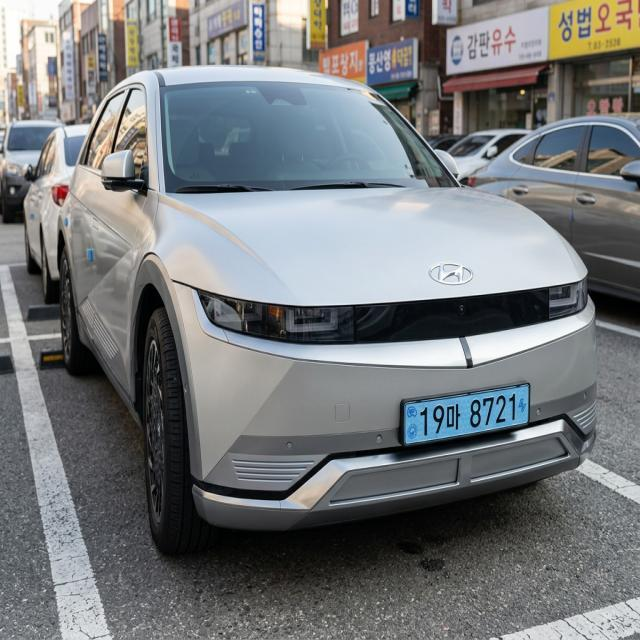car: (391, 377, 547, 456)
carev: (405, 404, 421, 447), (518, 386, 529, 429)
